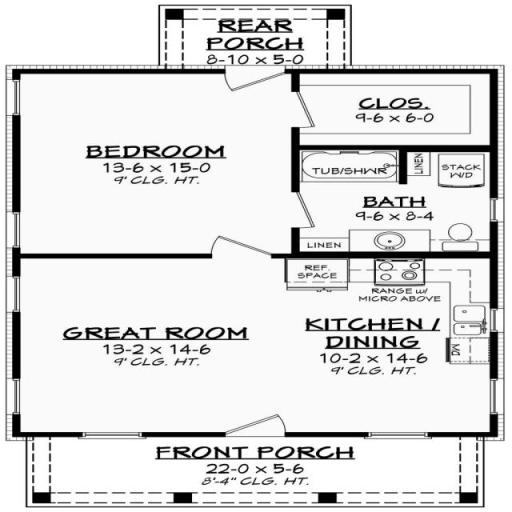bathroom: (300, 142, 487, 250)
bedroom: (22, 74, 288, 243)
closet: (301, 75, 492, 152)
hall: (26, 258, 290, 432)
kitchen: (298, 263, 498, 425)
porch: (32, 437, 469, 512), (165, 5, 358, 67)
